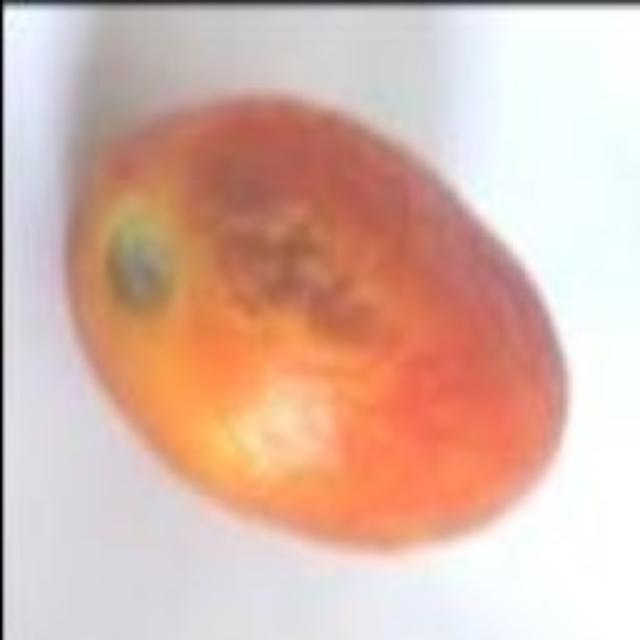defect: (69, 88, 572, 549)
